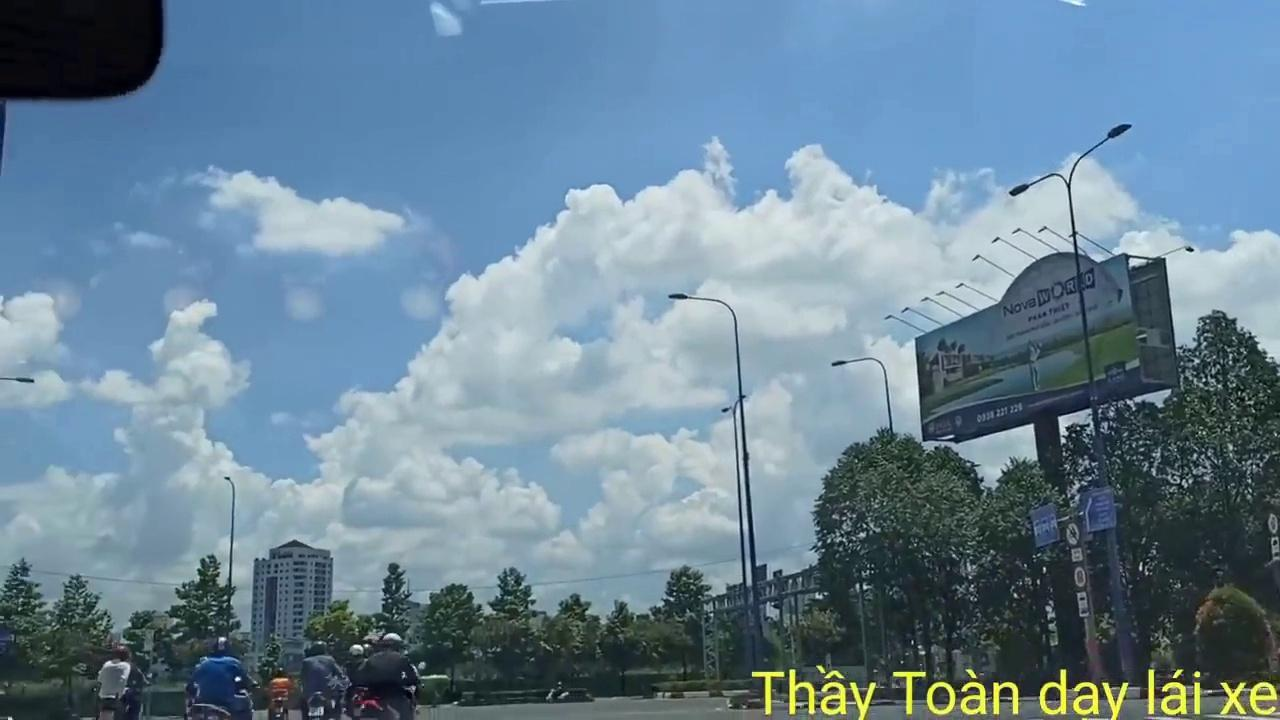Biển phụ: (1075, 591, 1091, 618)
Chỉ hướng đường: (1082, 487, 1118, 533)
Cấm xe máy: (1064, 520, 1082, 547)
Làn đường cho từng xe: (1029, 504, 1060, 548)
